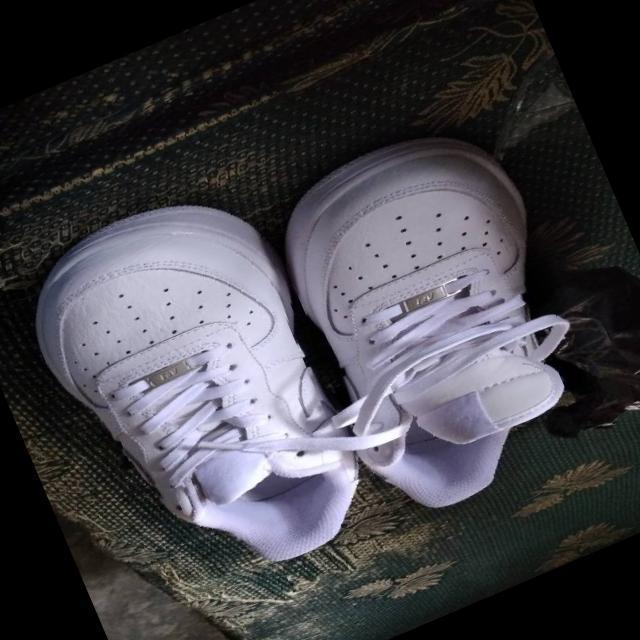nike fake air force: (4, 164, 392, 623), (252, 104, 630, 533), (34, 250, 394, 624)
